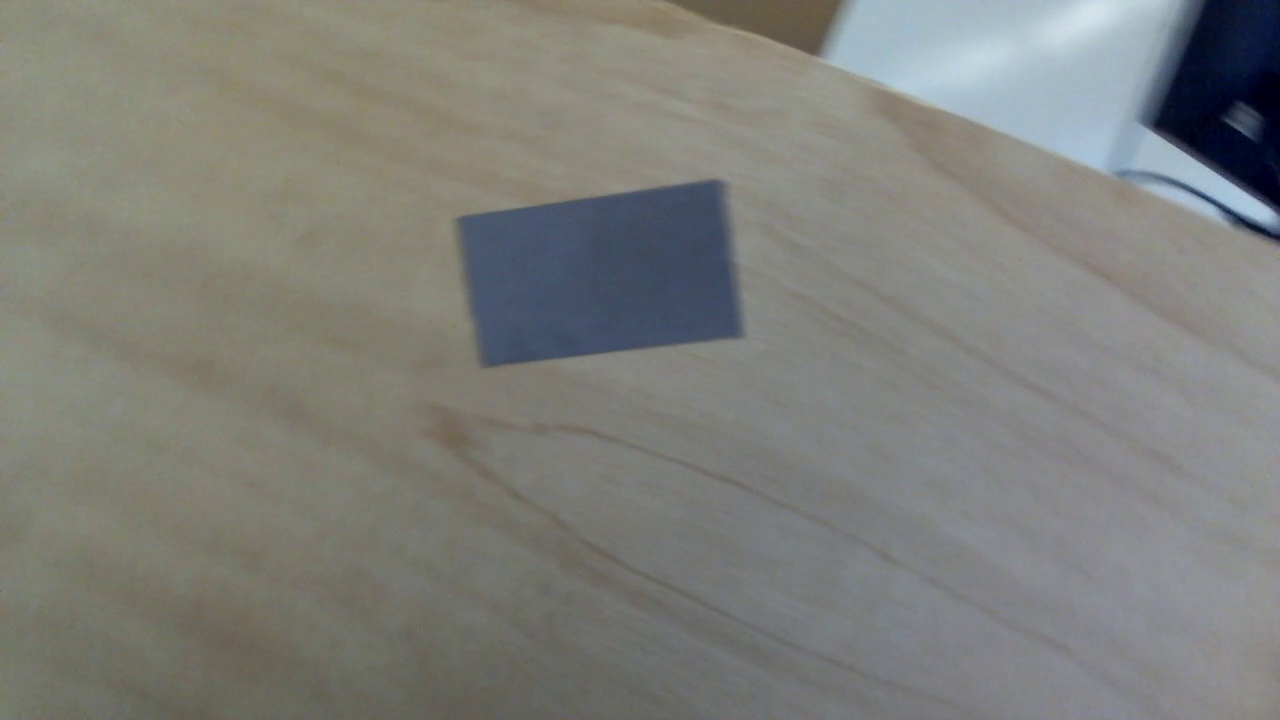Tape: (455, 177, 749, 372)
